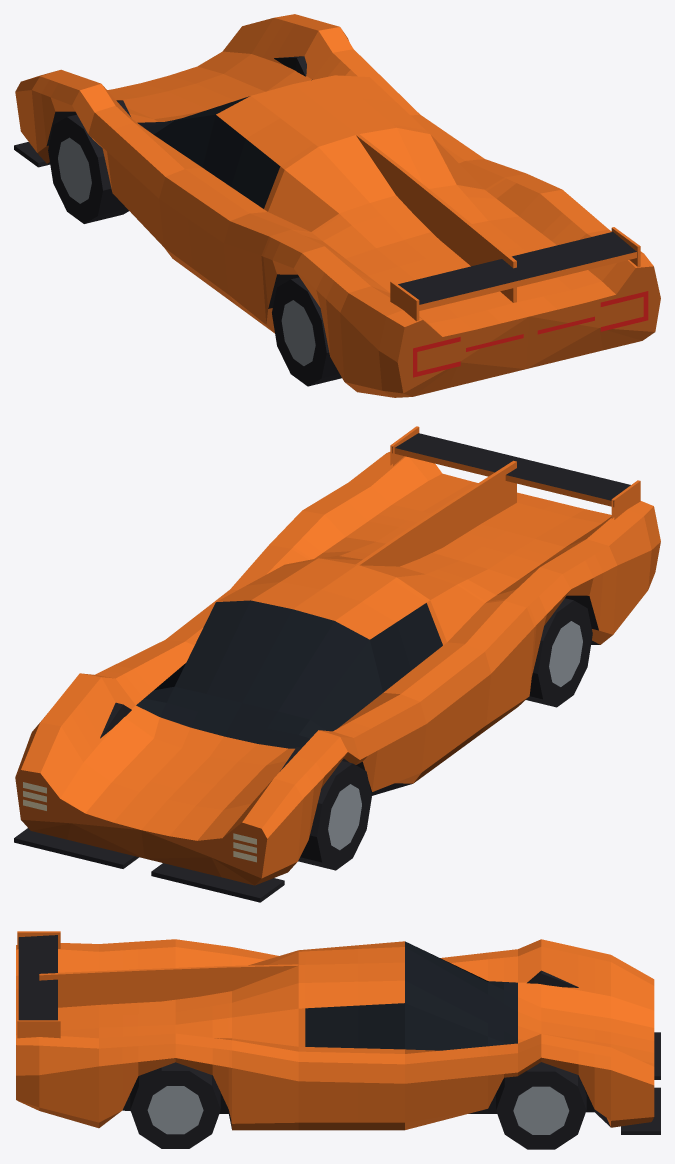
The model's file is afterglow_lod1.glb.
3 renders of one model, top to bottom at view 1: azimuth 30°, elevation 25°; view 2: azimuth 150°, elevation 25°; view 3: azimuth 270°, elevation 25°, orthographic. The views are drawn at different scales.
Parts seen in each view (by area): view 1: Body; view 2: Body; view 3: Body.
Part boxes in pixels (x1,y1,x2,y2): Body: (14, 14, 660, 397); Body: (14, 426, 660, 902); Body: (16, 931, 660, 1149).
Bounding box in the file's own units: 1.98 × 1.1 × 4.87.
